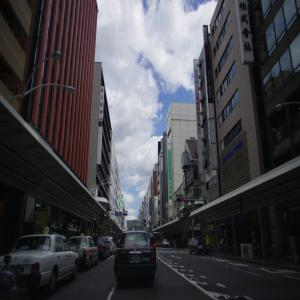Vehicle-registration-plate: (131, 257, 141, 263)
